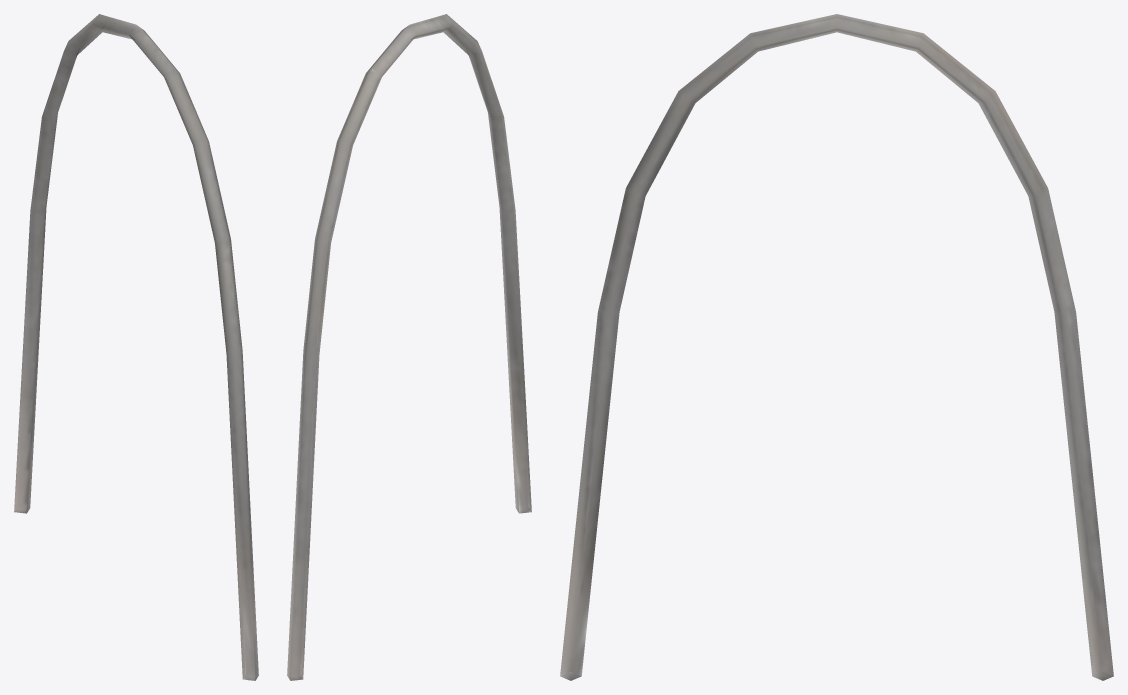
File: Handle.glb
3 views of the same model, side by side, from view 1: azimuth 30°, elevation 25°; view 2: azimuth 150°, elevation 25°; view 3: azimuth 270°, elevation 25° (orthographic). The views are drawn at different scales.
Visible parts, largest first — view 1: Handle; view 2: Handle; view 3: Handle.
Boxes of the visible parts, x1=… form: Handle: x1=14, y1=14, x2=258, y2=680; Handle: x1=287, y1=14, x2=531, y2=680; Handle: x1=560, y1=14, x2=1113, y2=680.
Bounding box in the file's own units: 0.0115 × 0.3887 × 0.2946.
1 material, 1 textured.
